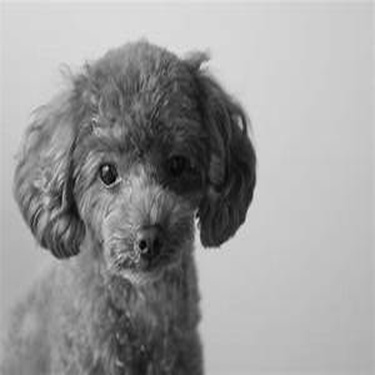dog: (1, 32, 260, 371)
